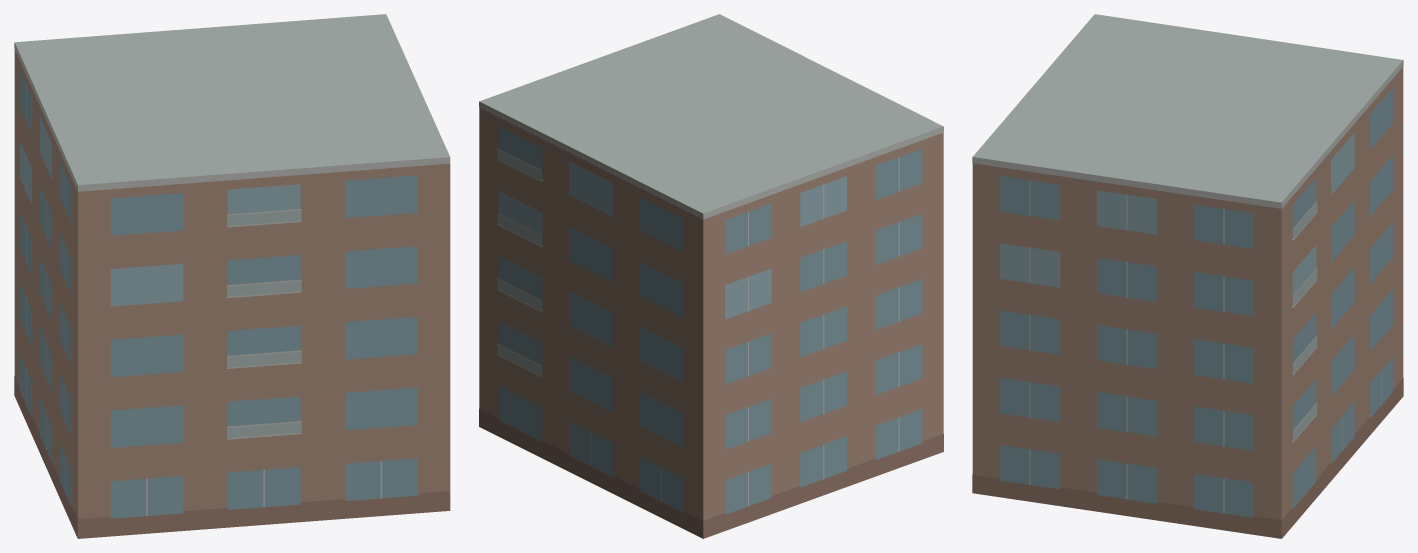
Rendered from survey-upis-32974672.glb.
The picture shows the model from 3 angles, left to right: view 1: azimuth 30°, elevation 25°; view 2: azimuth 150°, elevation 25°; view 3: azimuth 270°, elevation 25°; orthographic projection. The views are drawn at different scales.
Visible parts, largest first — view 1: survey-upis-32974672.tmp; view 2: survey-upis-32974672.tmp; view 3: survey-upis-32974672.tmp.
Part boxes in pixels (x1,y1,x2,y2): survey-upis-32974672.tmp: (14, 14, 450, 538); survey-upis-32974672.tmp: (479, 14, 943, 538); survey-upis-32974672.tmp: (972, 14, 1403, 538).
Bounding box in the file's own units: 15.9 × 13.2 × 15.35.
